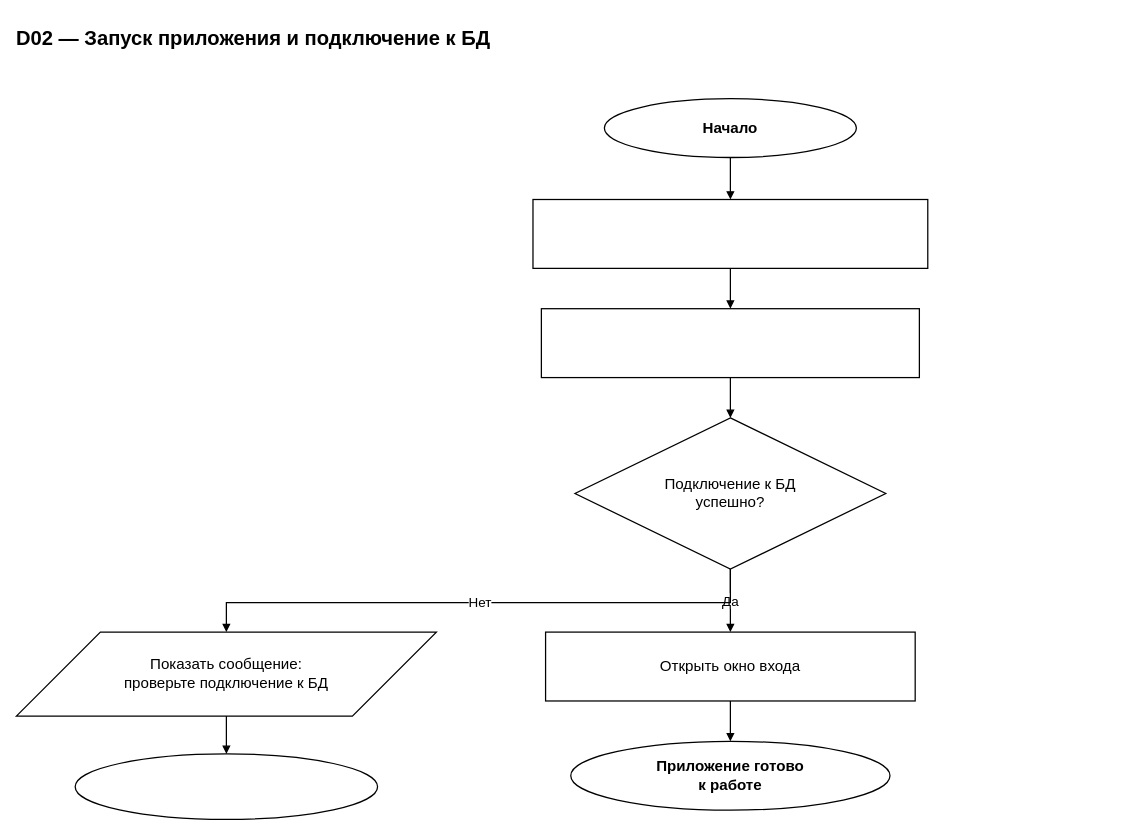
This 1124x834 diagram has some shape labels left out. Here are the shapes that lost their labels. From the top down, the box of each, then its label:
(532, 198, 928, 269): Загрузить настройки приложения
(540, 308, 920, 378): Открыть подключение к БД
(74, 753, 378, 820): Запуск остановлен
